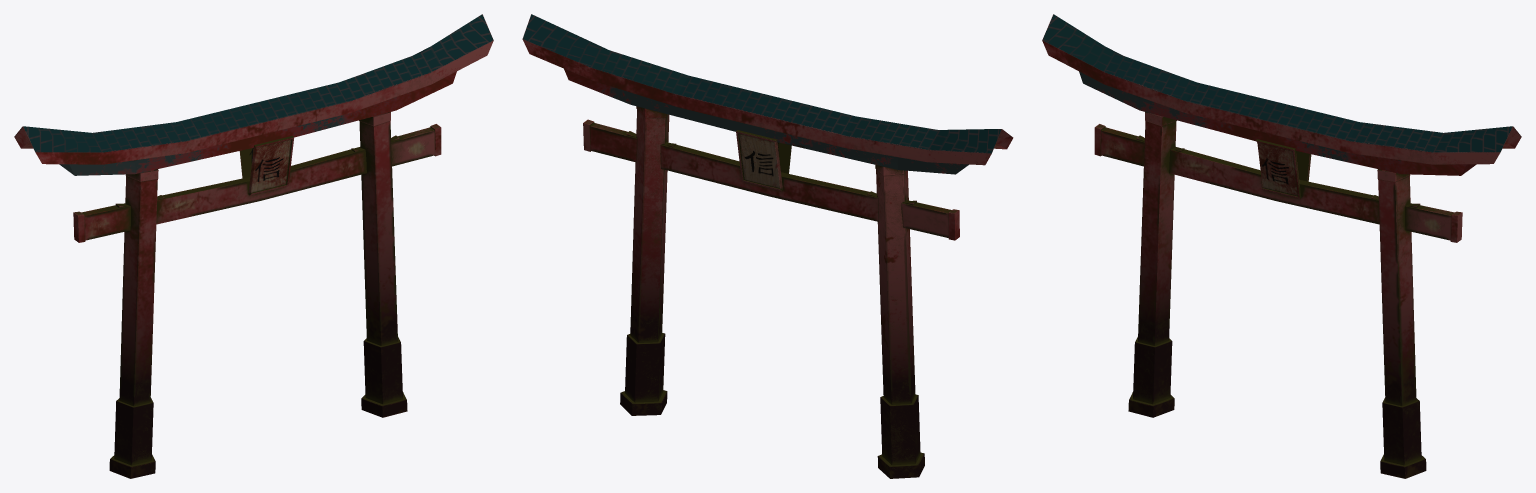
File: teste lod1.fbx
3 views of the same model, side by side, from view 1: azimuth 30°, elevation 25°; view 2: azimuth 150°, elevation 25°; view 3: azimuth 330°, elevation 25° (orthographic). The views are drawn at different scales.
Parts seen in each view (by area): view 1: Portal tori_LOD0; view 2: Portal tori_LOD0; view 3: Portal tori_LOD0.
Part boxes in pixels (x1=…): Portal tori_LOD0: x1=14, y1=14, x2=493, y2=478; Portal tori_LOD0: x1=522, y1=14, x2=1013, y2=478; Portal tori_LOD0: x1=1042, y1=14, x2=1521, y2=478.
Size of what is drawn, in the model's own units: 1103 by 834 by 107.
